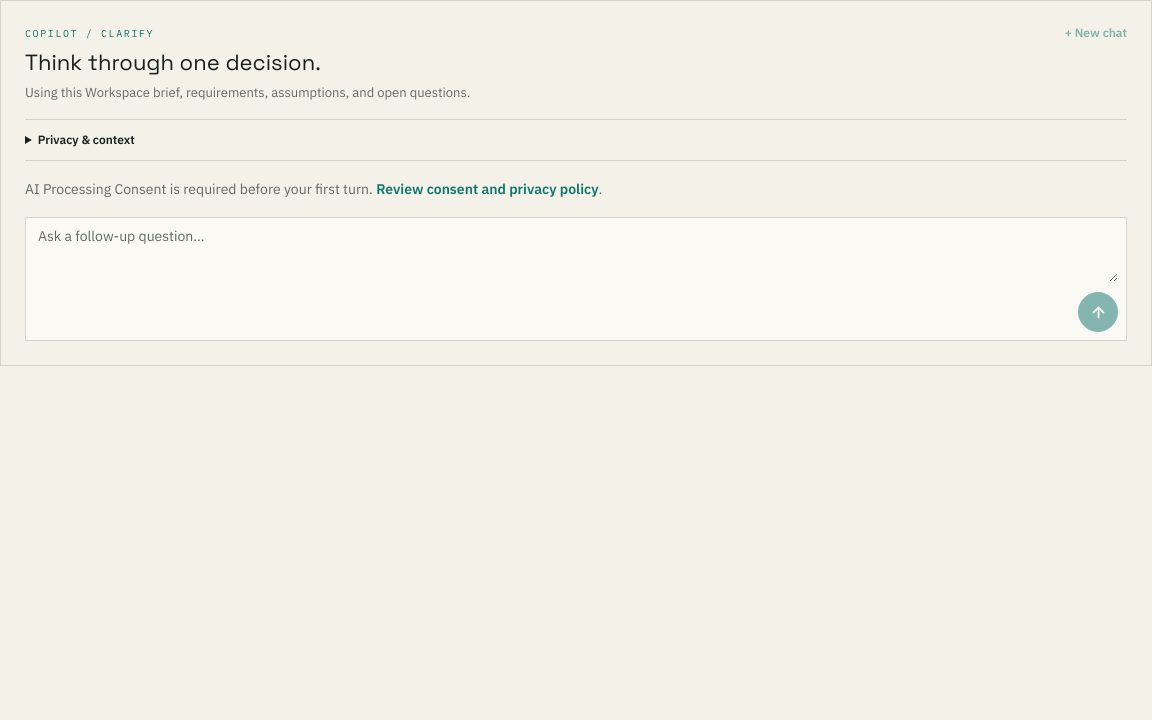
CopilotPanel › shows privacy exclusions before sending an advisory turn
In the text box named "Ask Copilot": point(576, 254) [34, 226, 1118, 282], type "Should I use a cache?"
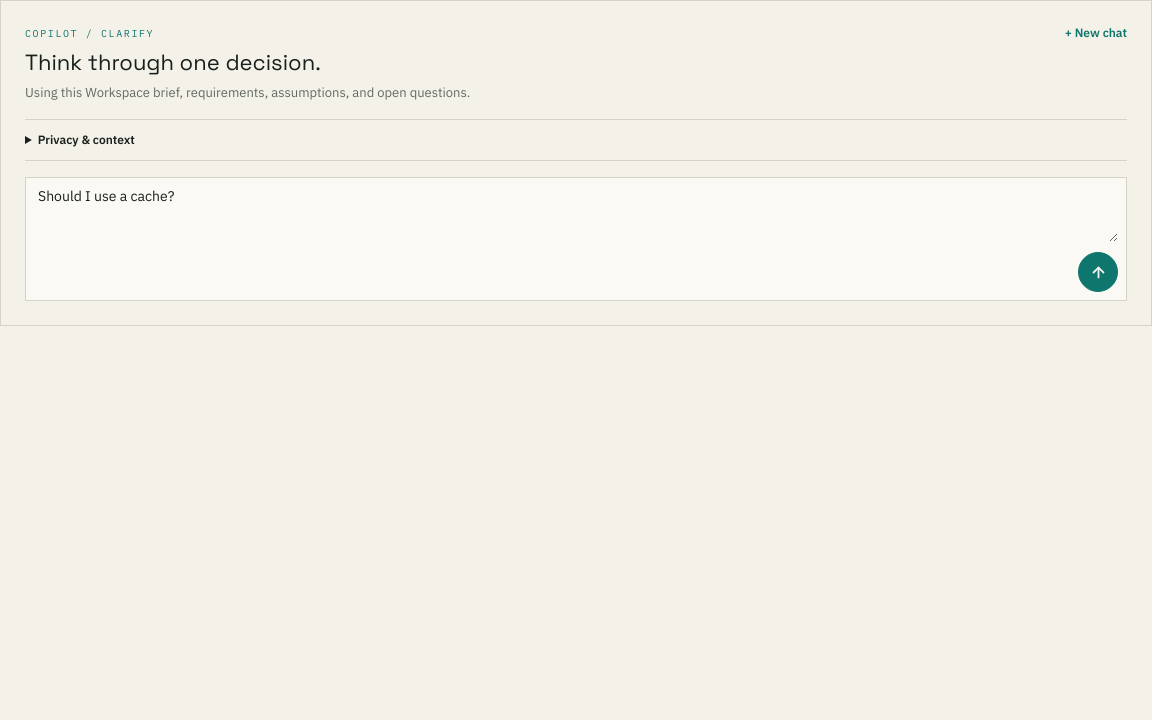
Click the button named "Send message": point(1098, 272) [1078, 252, 1118, 292]
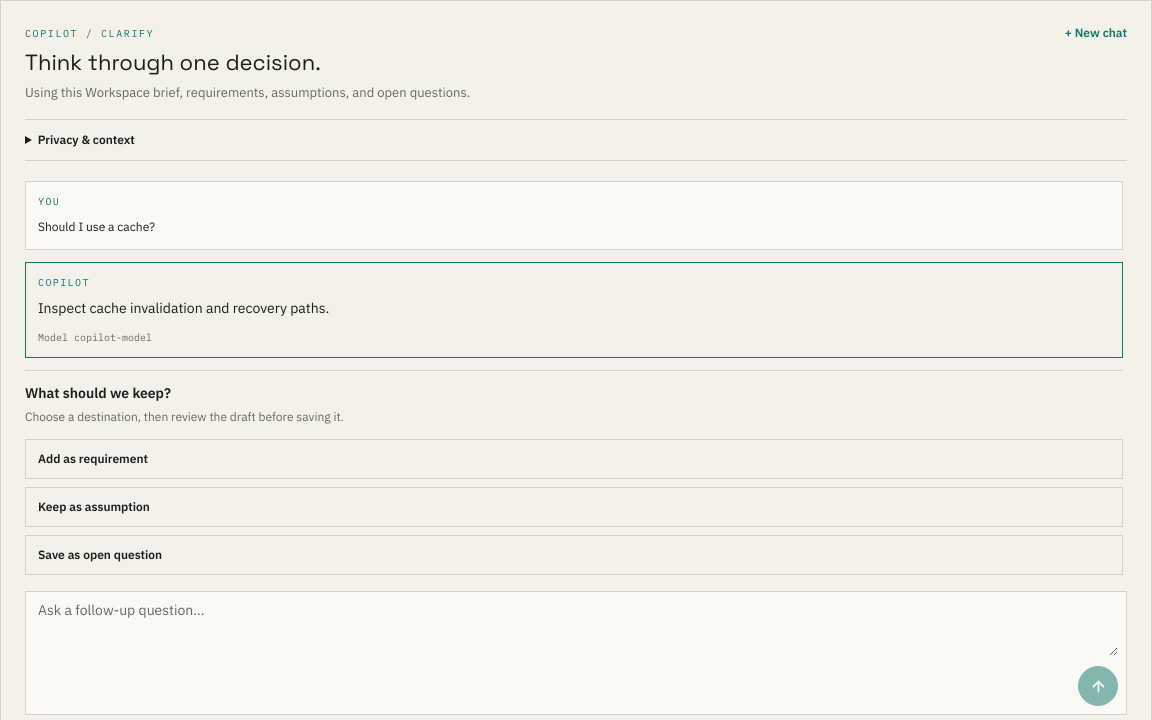
Check: the element named "Copilot response" shows "Inspect cache invalidation", box [38, 299, 329, 317]
